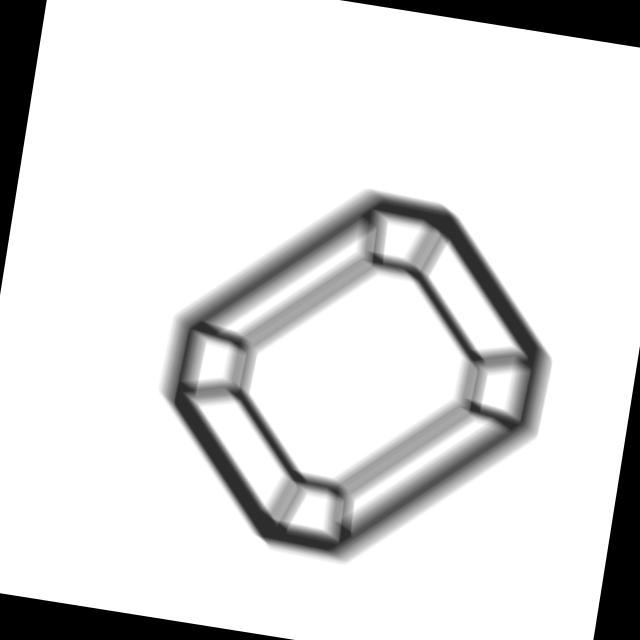emerald: (132, 155, 584, 602)
